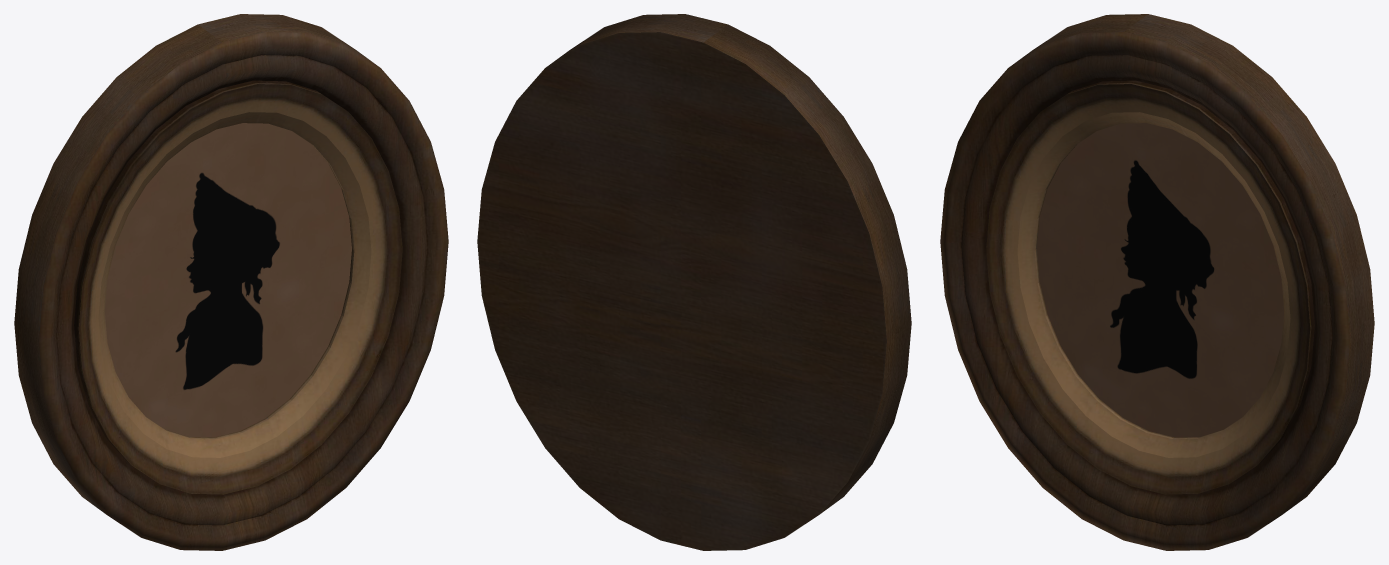
File: frame_2.FBX
The picture shows the model from 3 angles, left to right: view 1: azimuth 30°, elevation 25°; view 2: azimuth 150°, elevation 25°; view 3: azimuth 330°, elevation 25°; orthographic projection.
Parts seen in each view (by area): view 1: frame_2; view 2: frame_2; view 3: frame_2.
Part boxes in pixels (x1=…): frame_2: x1=14, y1=14, x2=448, y2=550; frame_2: x1=477, y1=14, x2=911, y2=550; frame_2: x1=940, y1=14, x2=1374, y2=550.
Bounding box in the file's own units: 0.2099 × 0.2489 × 0.0233.
1 material, 1 textured.
